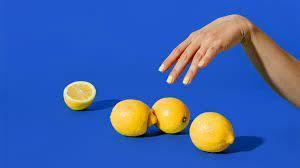lemon: (190, 112, 234, 152), (110, 100, 158, 136), (152, 98, 190, 134), (63, 81, 96, 110)
